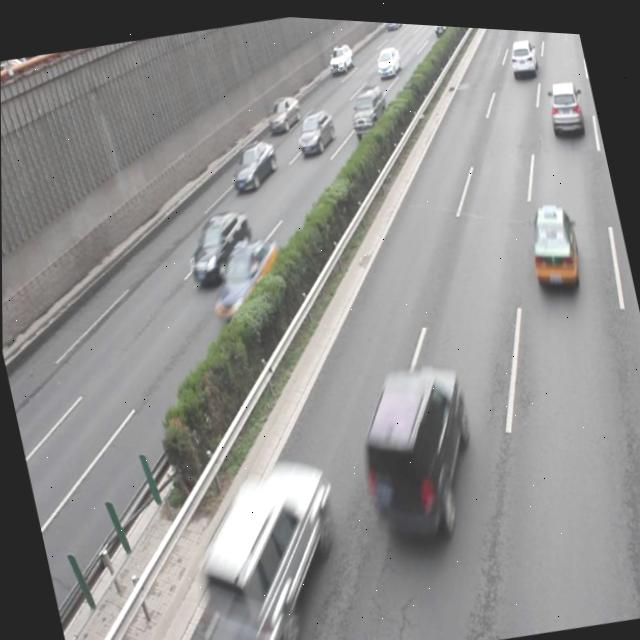car: (178, 446, 355, 640), (342, 348, 488, 546), (199, 228, 288, 325), (179, 200, 259, 287), (518, 191, 584, 288), (224, 132, 282, 194), (541, 69, 586, 136), (343, 77, 391, 135), (291, 102, 338, 156), (262, 87, 302, 132)
